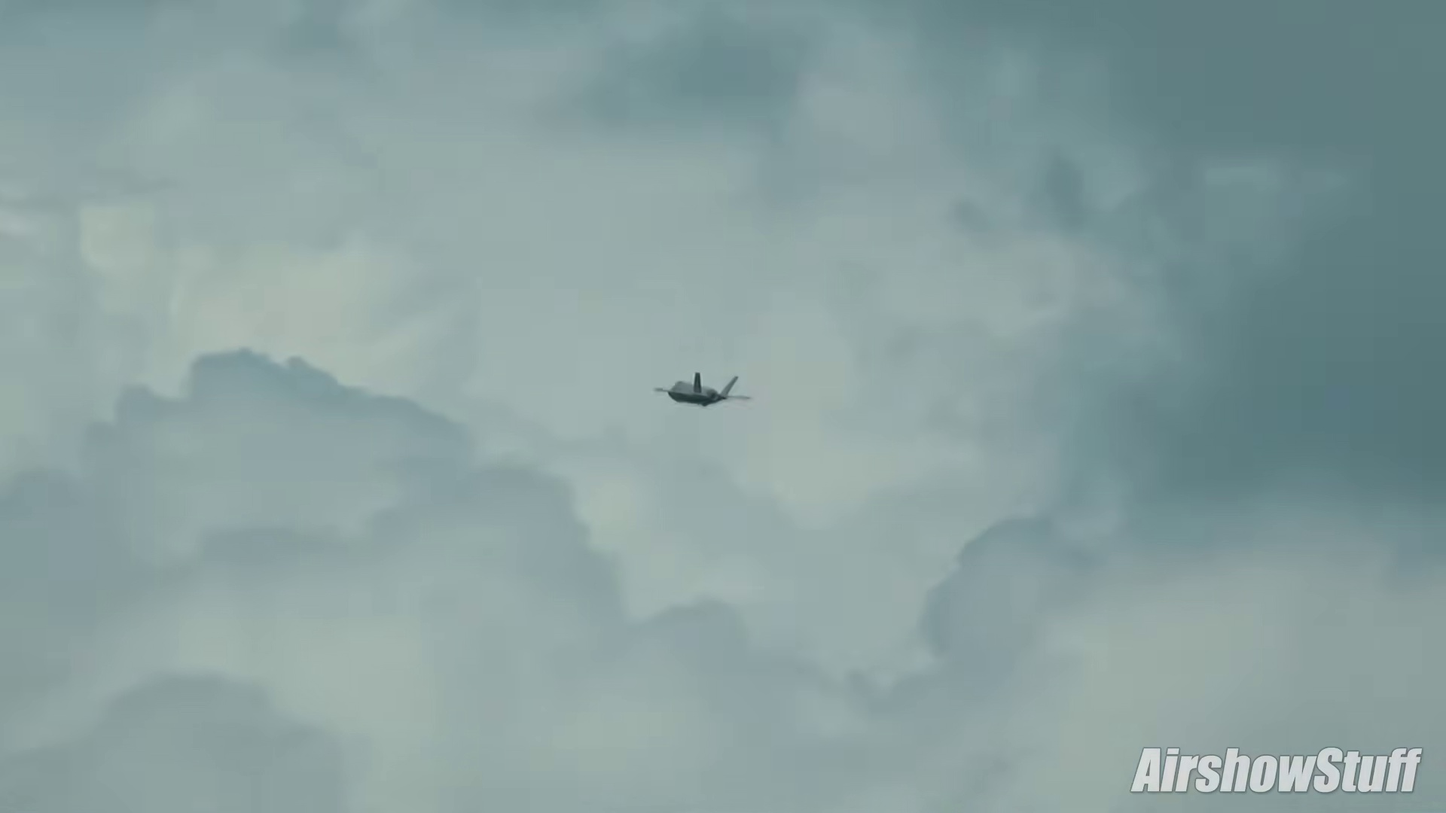F35: (648, 369, 756, 412)
